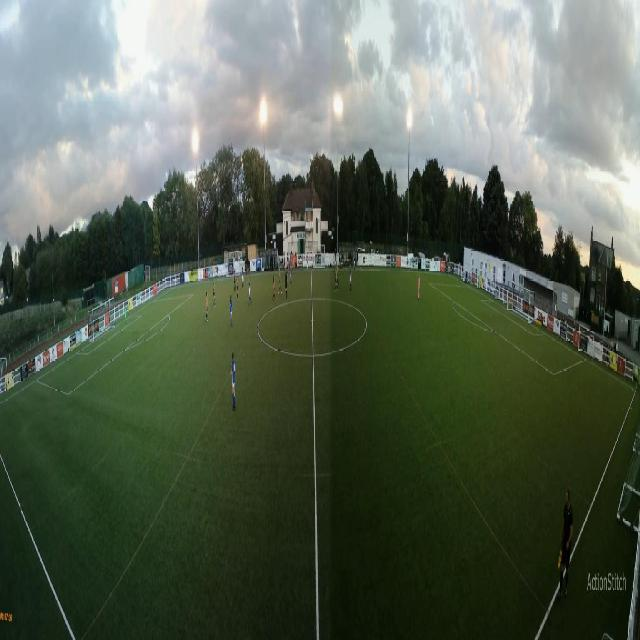ball: (345, 267, 346, 271)
player: (231, 351, 237, 412), (278, 268, 283, 295), (229, 295, 233, 326), (205, 292, 209, 322), (284, 270, 288, 300), (248, 277, 252, 305), (272, 275, 276, 302), (334, 266, 338, 293), (306, 256, 310, 276), (213, 283, 216, 309), (236, 276, 239, 302), (417, 274, 420, 300), (125, 304, 128, 329), (234, 269, 237, 294), (336, 261, 339, 285), (290, 264, 293, 286), (350, 263, 352, 291), (242, 268, 244, 289), (354, 251, 356, 272), (289, 256, 291, 265)
